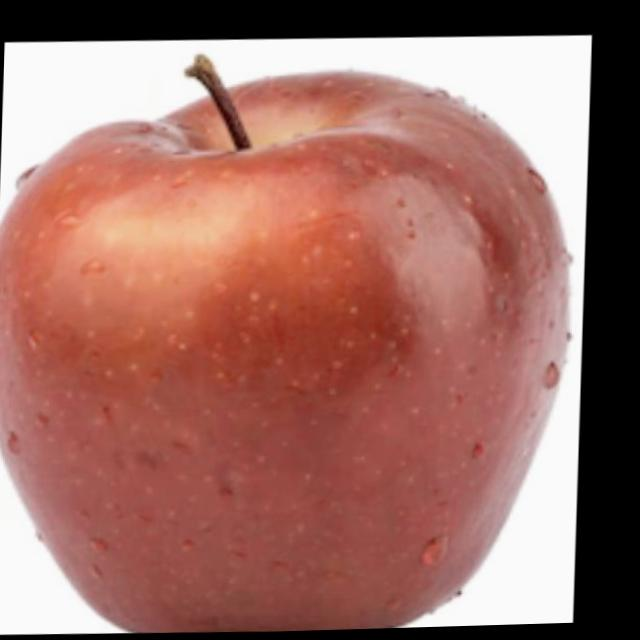Apple: (0, 41, 581, 640)
